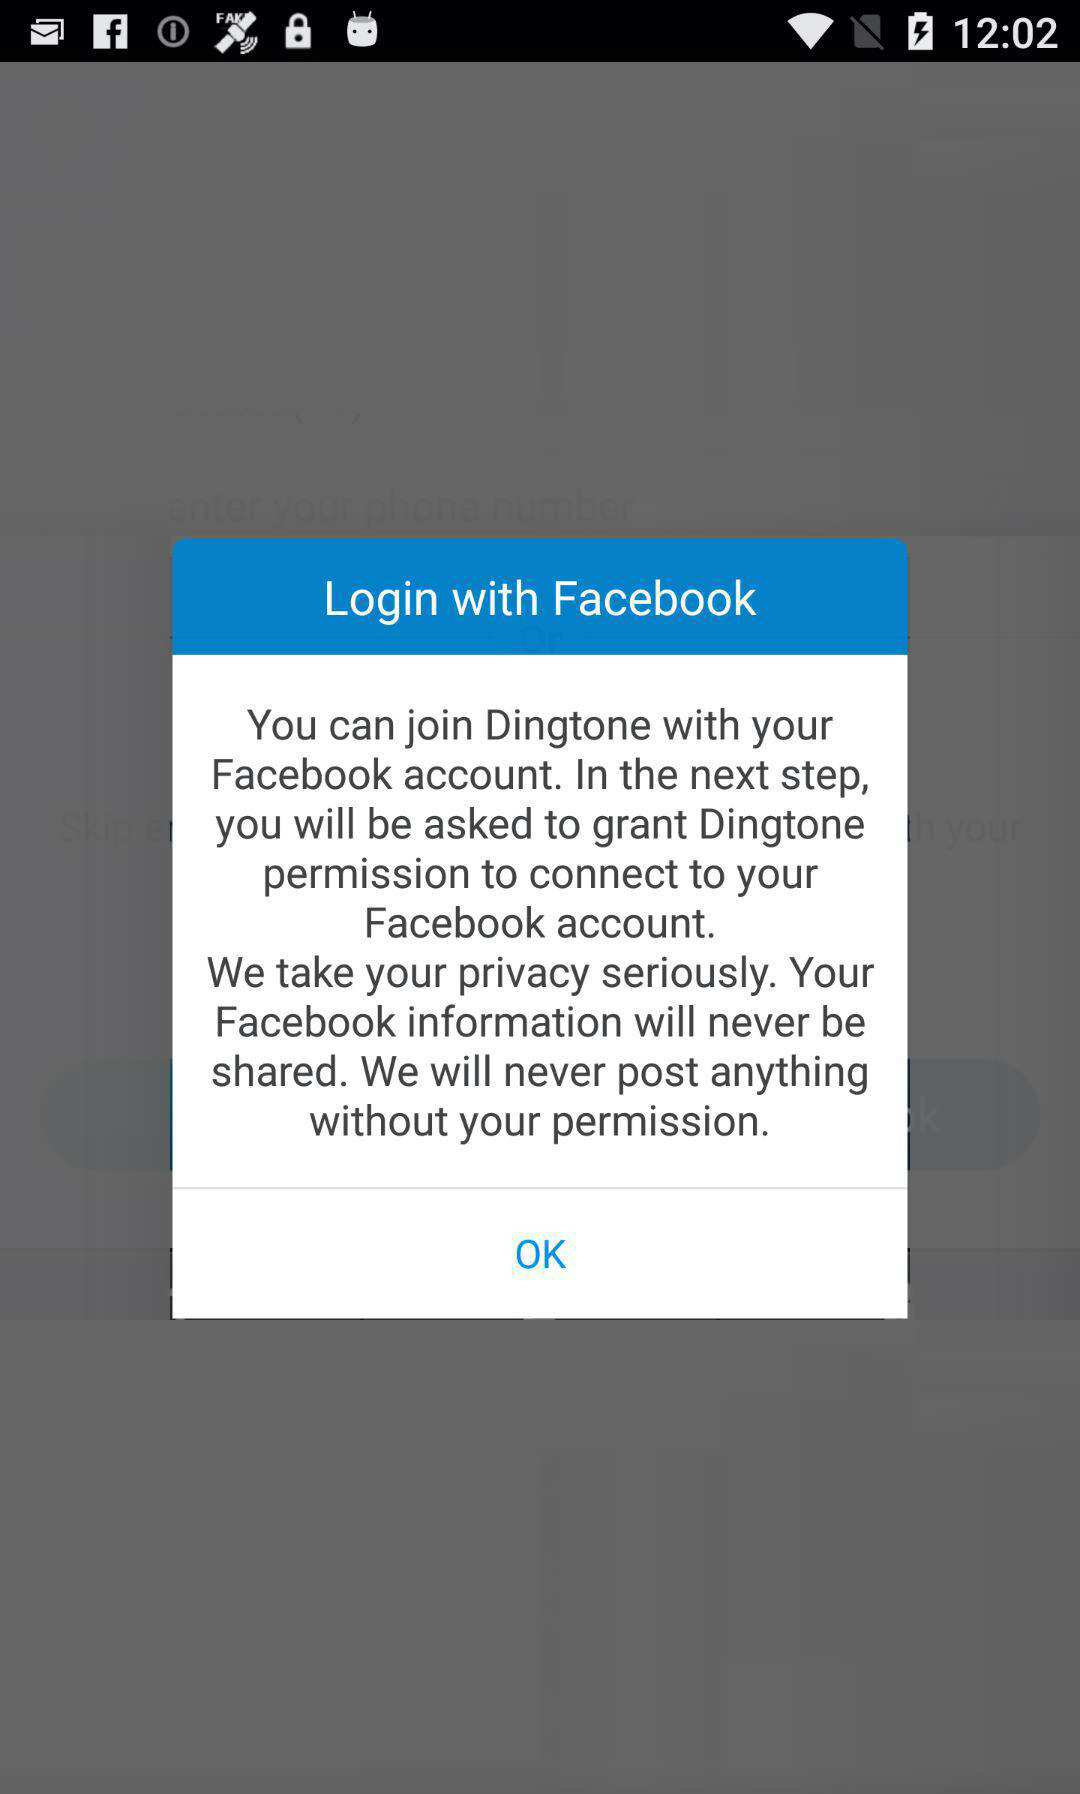Modal: (173, 538, 907, 1320)
Text: (208, 709, 875, 1146), (327, 580, 757, 625)
TextButton: (176, 1188, 907, 1319)
UpperTaskBar: (1, 1, 1080, 64)
